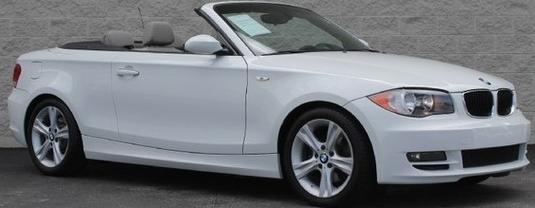front_view: (362, 64, 533, 182)
headlight: (366, 81, 459, 123)
